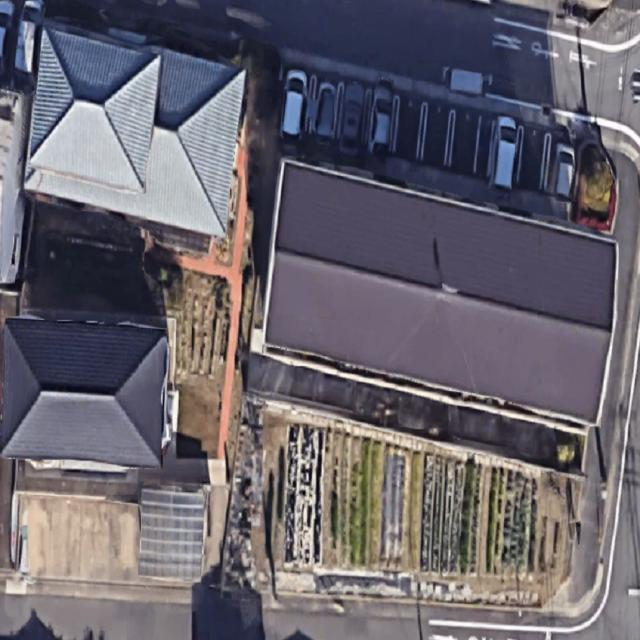Batiment: (266, 161, 616, 421), (25, 27, 245, 237), (1, 320, 168, 466)
